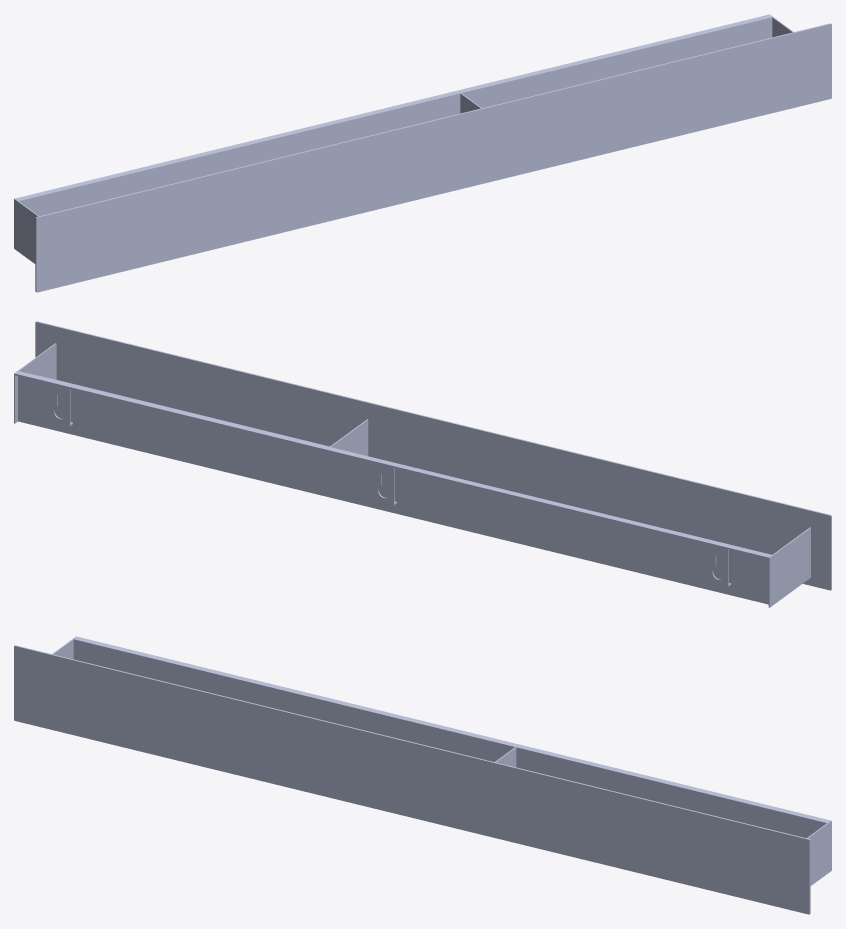
The model's file is skyline-double.9135b6b8d0.glb.
3 views of the same model, one above another, from view 1: azimuth 30°, elevation 25°; view 2: azimuth 150°, elevation 25°; view 3: azimuth 330°, elevation 25° (orthographic).
Visible parts, largest first — view 1: NAUO1; view 2: NAUO1; view 3: NAUO1.
Part boxes in pixels (x1,y1,x2,y2): NAUO1: [14, 14, 831, 292]; NAUO1: [14, 321, 831, 607]; NAUO1: [14, 636, 831, 914].
Bounding box in the file's own units: 1 × 0.09 × 0.092.
